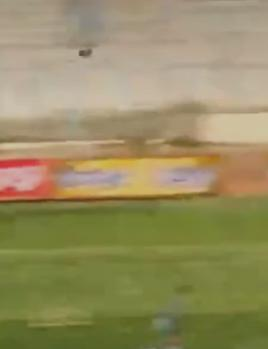ball: (72, 37, 100, 65)
